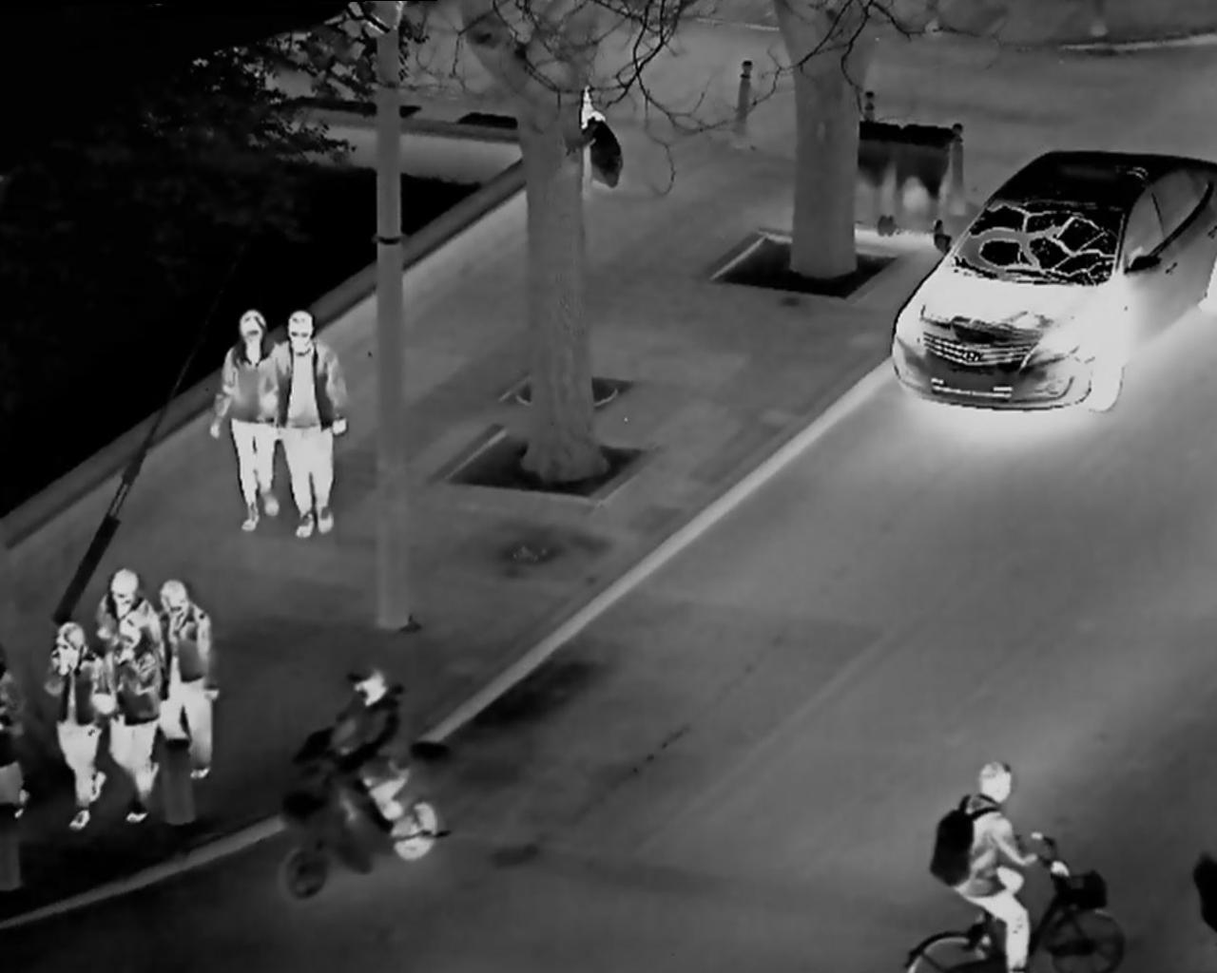person: (911, 742, 1045, 973), (310, 658, 433, 873), (271, 303, 349, 544), (206, 296, 282, 531), (29, 620, 113, 827), (92, 611, 171, 827), (154, 578, 223, 782), (92, 559, 163, 640)
